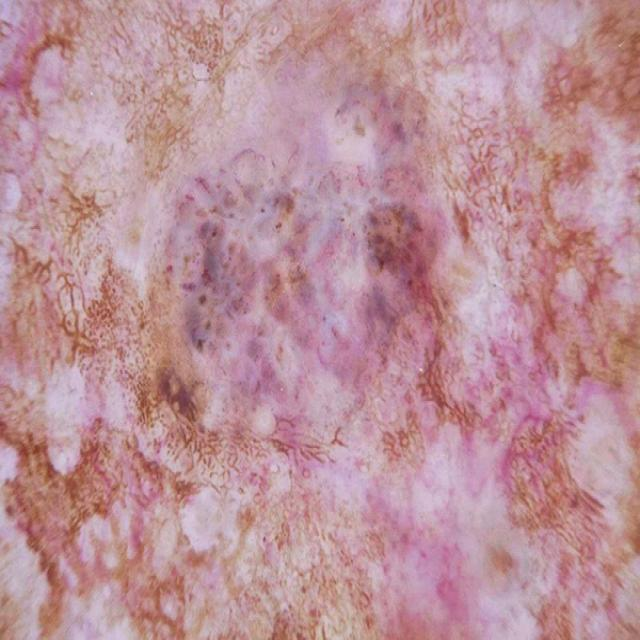Benign-Keratosis-like-Lesions-BKL-: (16, 32, 600, 610)
